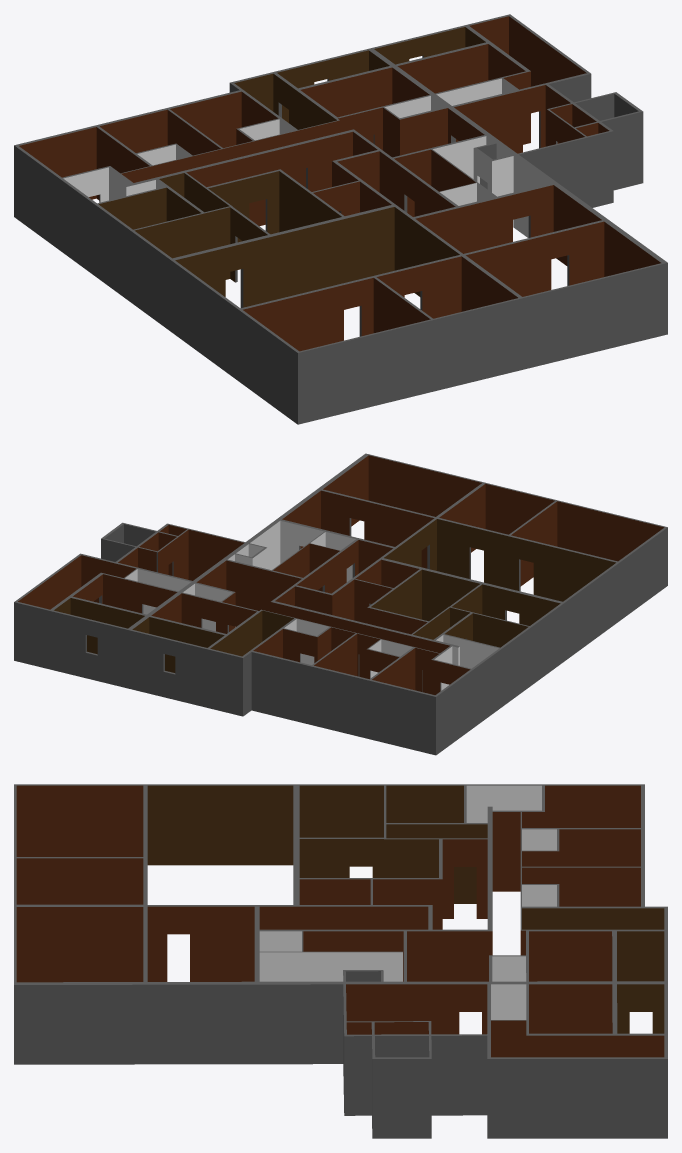
Rendered from penthouse_for_horror.fbx.
3 renders of one model, top to bottom at view 1: azimuth 30°, elevation 25°; view 2: azimuth 150°, elevation 25°; view 3: azimuth 270°, elevation 25°, orthographic. The views are drawn at different scales.
Parts seen in each view (by area): view 1: main_house; view 2: main_house; view 3: main_house.
Boxes of the visible parts, bbox=[...] form: main_house: bbox=[14, 14, 667, 424]; main_house: bbox=[14, 453, 667, 755]; main_house: bbox=[14, 784, 667, 1138].
Bounding box in the file's own units: 10756 × 1454 × 10817.
